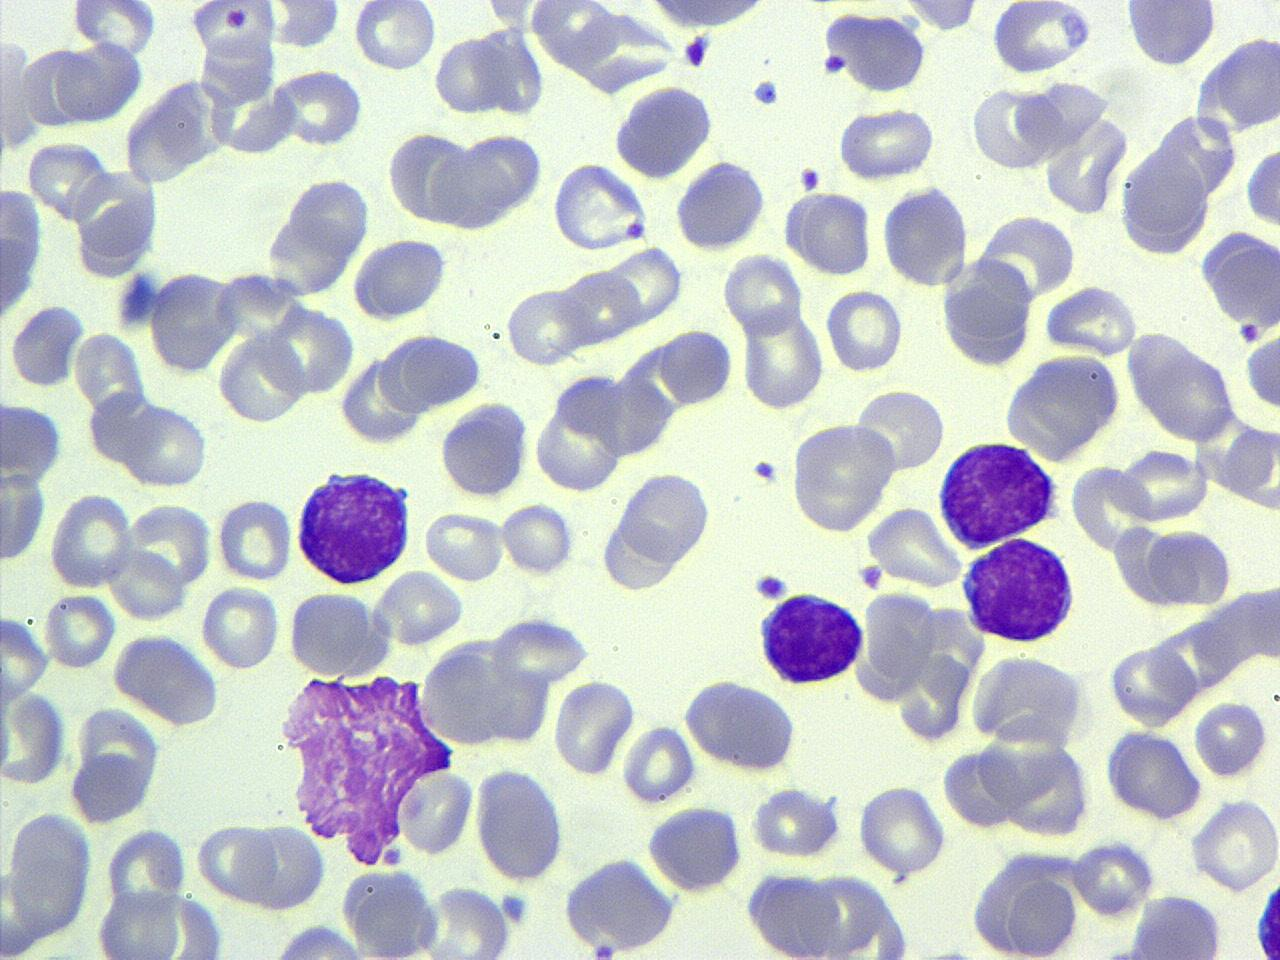Platelets: (114, 269, 160, 332), (499, 888, 531, 927), (752, 571, 790, 602), (682, 32, 710, 69), (750, 79, 782, 108), (923, 941, 972, 960), (858, 562, 886, 594), (752, 458, 780, 484), (822, 51, 850, 77), (1237, 318, 1261, 345), (800, 164, 822, 194), (622, 220, 648, 242), (590, 940, 616, 960)
RBC: (1001, 350, 1125, 463), (1, 805, 94, 944), (970, 648, 1094, 750), (788, 419, 898, 533), (470, 762, 568, 884), (68, 704, 162, 826), (1115, 144, 1211, 260), (110, 631, 222, 728), (936, 259, 1033, 370), (91, 886, 231, 960), (338, 862, 440, 960), (150, 264, 237, 377), (1103, 726, 1203, 823), (437, 398, 532, 500), (880, 184, 972, 288), (644, 802, 746, 894), (1043, 109, 1129, 219), (376, 331, 488, 414), (738, 304, 824, 411), (214, 329, 310, 425), (1147, 344, 1239, 445), (550, 161, 652, 252), (1188, 795, 1280, 892), (856, 781, 947, 876), (854, 383, 946, 477), (48, 489, 132, 592), (864, 506, 964, 590), (552, 677, 634, 776), (968, 85, 1059, 173), (990, 0, 1092, 78), (286, 586, 372, 678), (272, 66, 367, 148), (835, 106, 937, 182), (242, 819, 326, 912), (1110, 639, 1196, 728), (1113, 448, 1211, 523), (372, 568, 466, 647), (721, 248, 803, 338), (199, 582, 281, 672), (491, 614, 591, 688), (1147, 522, 1233, 607), (124, 402, 209, 488), (57, 40, 142, 125), (194, 818, 276, 905), (432, 146, 514, 234), (397, 766, 475, 858), (824, 285, 906, 372), (751, 782, 841, 860), (1043, 282, 1139, 356), (26, 136, 108, 222), (505, 282, 587, 368), (216, 493, 294, 582), (1212, 31, 1280, 134), (1073, 836, 1157, 918), (422, 883, 511, 960), (0, 686, 66, 788), (608, 244, 686, 328), (659, 325, 737, 409), (798, 190, 872, 278), (1123, 0, 1217, 70), (477, 25, 546, 119), (422, 508, 506, 584), (1193, 698, 1271, 778), (620, 722, 696, 804), (530, 0, 618, 71), (350, 0, 437, 71), (432, 33, 506, 117), (20, 45, 90, 131), (42, 590, 117, 670), (2, 396, 67, 488), (1007, 877, 1079, 958), (499, 501, 573, 578), (70, 0, 158, 57), (1, 37, 43, 152), (254, 920, 380, 958), (0, 465, 48, 564), (0, 612, 50, 698), (1244, 323, 1280, 419), (1245, 136, 1279, 234), (478, 0, 564, 34), (900, 0, 982, 34)
WBC: (276, 661, 454, 870), (596, 468, 719, 594), (292, 464, 418, 587), (744, 868, 911, 960), (935, 438, 1063, 550), (969, 843, 1085, 960), (958, 533, 1080, 645), (1005, 349, 1127, 460), (1, 803, 94, 947), (561, 854, 683, 956), (470, 762, 568, 884), (682, 674, 800, 774), (214, 320, 323, 426), (1116, 143, 1215, 258), (757, 587, 868, 689), (67, 706, 161, 822), (942, 256, 1037, 369), (610, 83, 718, 182), (114, 630, 222, 726), (882, 179, 974, 290), (642, 799, 746, 895), (818, 8, 928, 98), (375, 328, 486, 416), (672, 156, 772, 254), (340, 869, 450, 958), (92, 890, 232, 960), (441, 398, 534, 503), (348, 230, 453, 323), (989, 2, 1095, 78), (1117, 891, 1229, 959), (754, 783, 847, 862), (0, 182, 48, 332), (7, 301, 85, 390), (1122, 2, 1218, 70), (1, 396, 65, 487), (252, 921, 381, 959), (0, 470, 49, 565), (637, 0, 777, 33), (1251, 872, 1280, 960)
